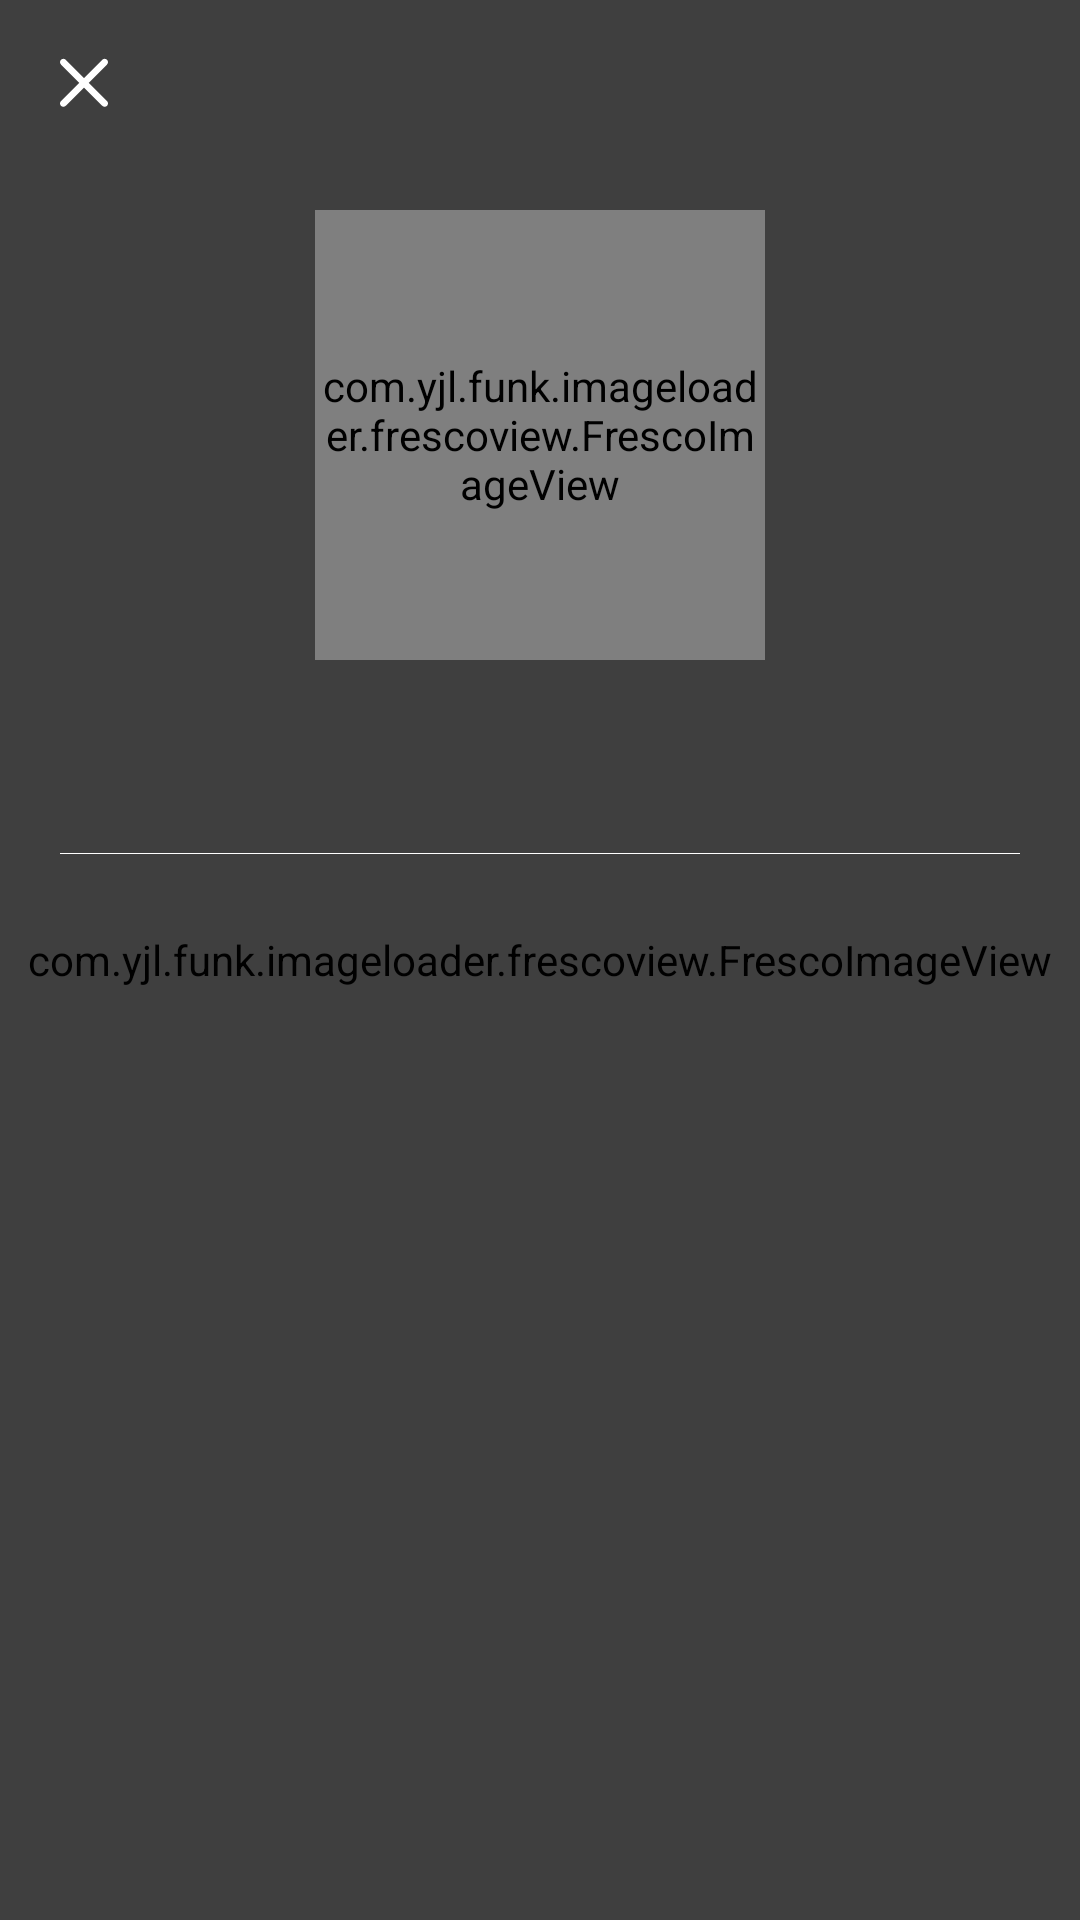

Point at icon controls on the screen. Image size 1080*1920, points as (x,y).
close: (84,82)
